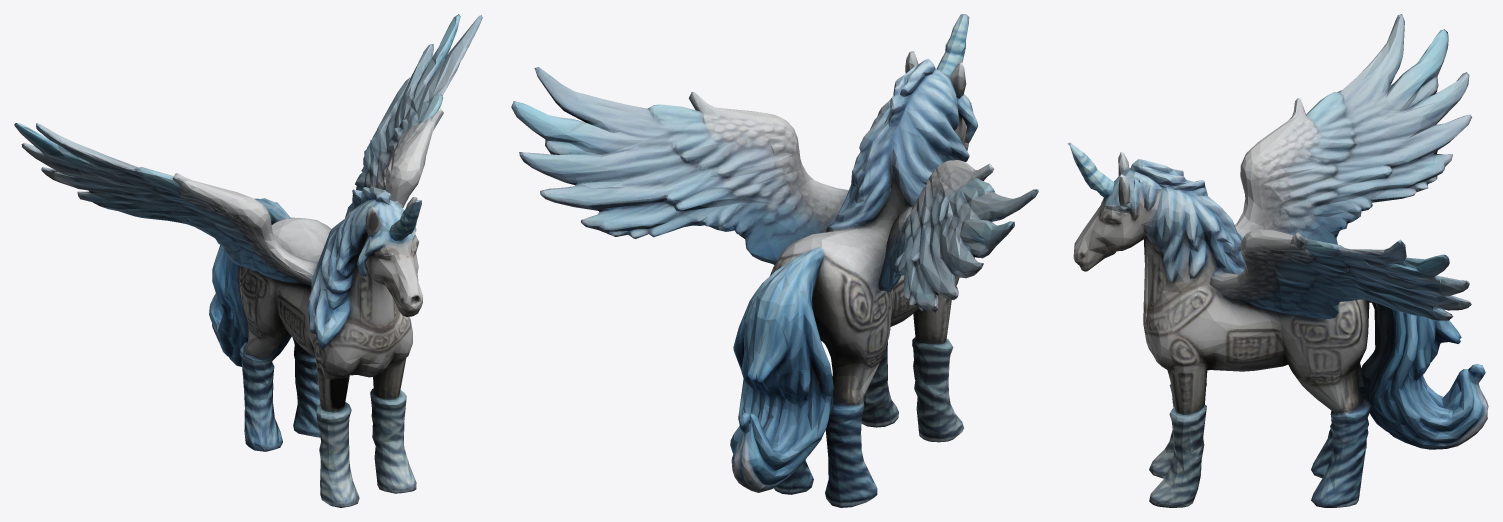
File: auroracorn__galeUnicorn.glb
3 renders of one model, left to right at view 1: azimuth 30°, elevation 25°; view 2: azimuth 150°, elevation 25°; view 3: azimuth 270°, elevation 25°, orthographic. The views are drawn at different scales.
Visible parts, largest first — view 1: world; view 2: world; view 3: world.
Part boxes in pixels (x1=…): world: x1=14, y1=14, x2=482, y2=507; world: x1=511, y1=14, x2=1038, y2=507; world: x1=1067, y1=14, x2=1488, y2=507.
Bounding box in the file's own units: 1 × 0.7401 × 0.7822.
1 material, 1 textured.
